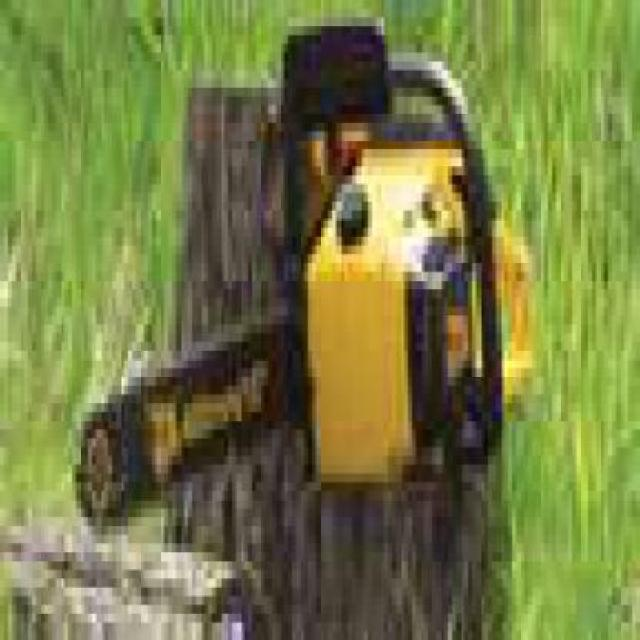Chainsaw: (69, 18, 540, 537)
